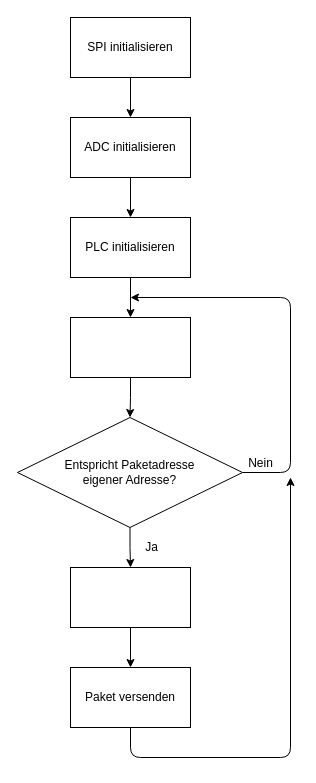
Image size: 316x783. Some labels were removed from this diagram. Here are the shapes that lost their labels. From the top down, the centre of each, then its label:
(x=130, y=347): Paket empfangen
(x=130, y=597): Spannung messen
